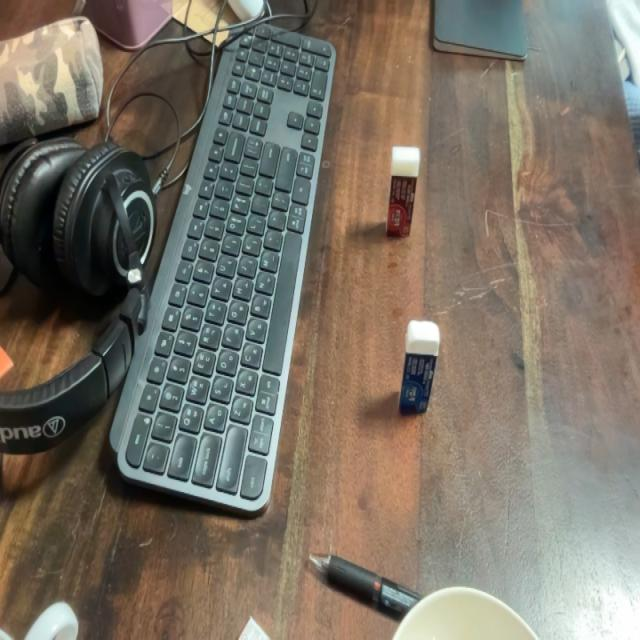blue: (396, 310, 445, 428)
red: (384, 136, 423, 246)
